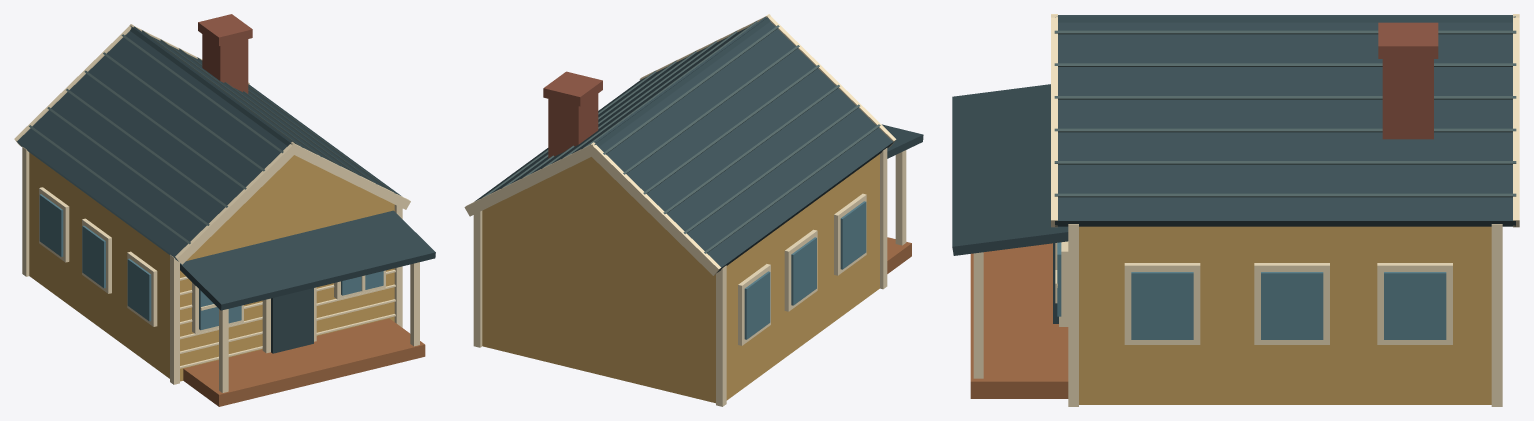
File: farm_cottage.glb
3 renders of one model, left to right at view 1: azimuth 30°, elevation 25°; view 2: azimuth 150°, elevation 25°; view 3: azimuth 270°, elevation 25°, orthographic. The views are drawn at different scales.
Visible parts, largest first — view 1: farm_cottage; view 2: farm_cottage; view 3: farm_cottage.
Part boxes in pixels (x1,y1,x2,y2): farm_cottage: [14, 14, 435, 406]; farm_cottage: [464, 14, 923, 406]; farm_cottage: [952, 14, 1519, 406].
Bounding box in the file's own units: 5.67 × 5.44 × 8.31.
